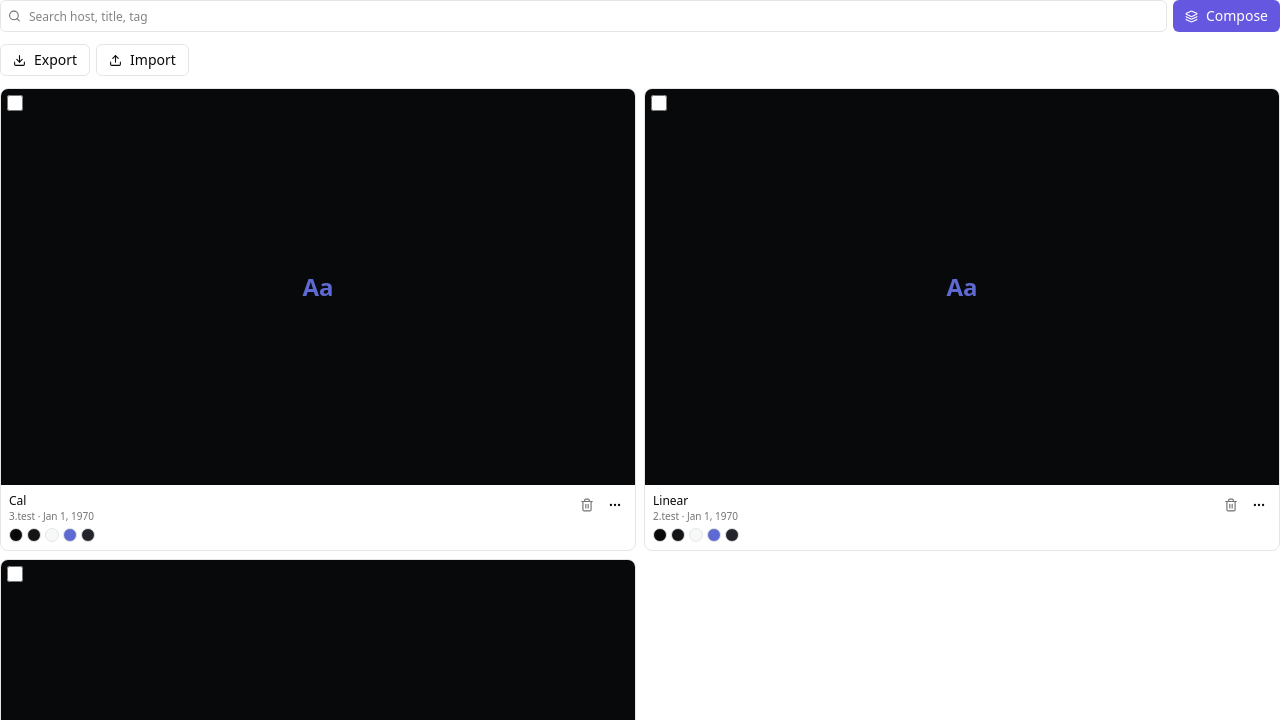
Test: Compose while another window deletes (component, SPC-43) › T4.14 a base deleted elsewhere moves to a scan that is left; the preview and Save stay
Step 1. Click the button "Compose" → (1226, 16), box [1173,0,1279,32]
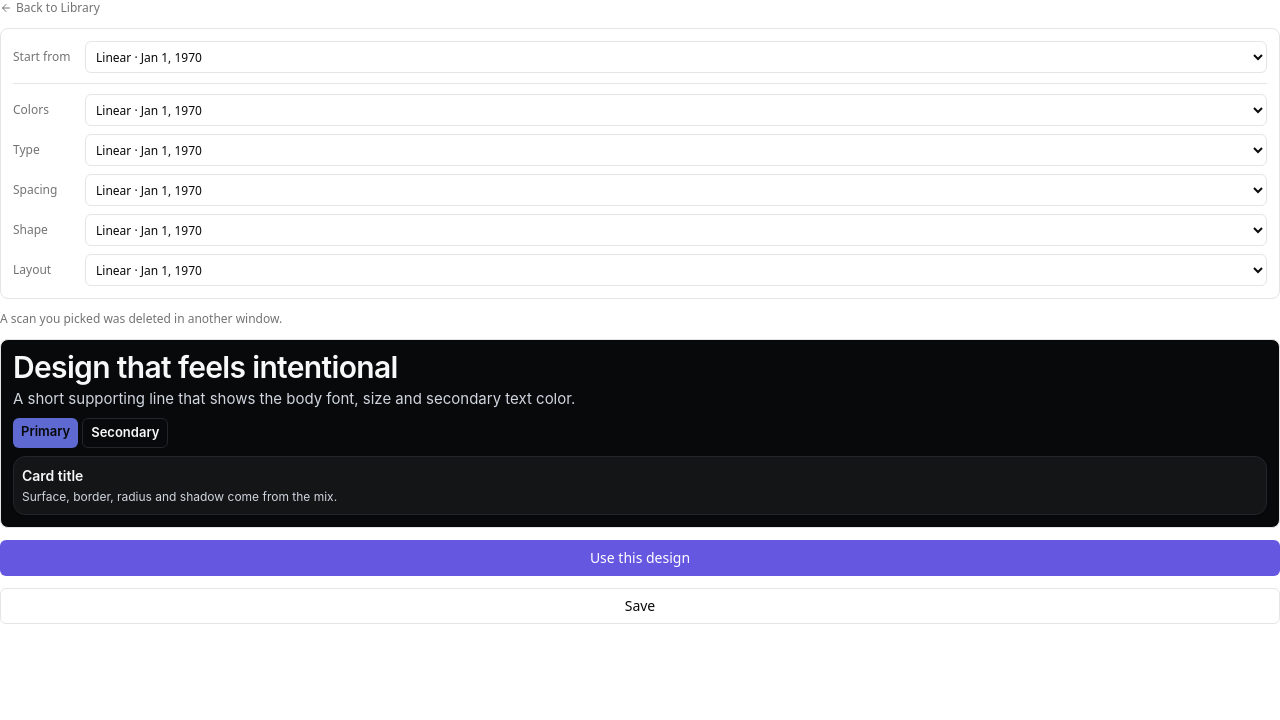
Check: the message shows "deleted in another window", box [0,310,282,327]
Check: the button "Save" is enabled, box [0,588,1279,624]
